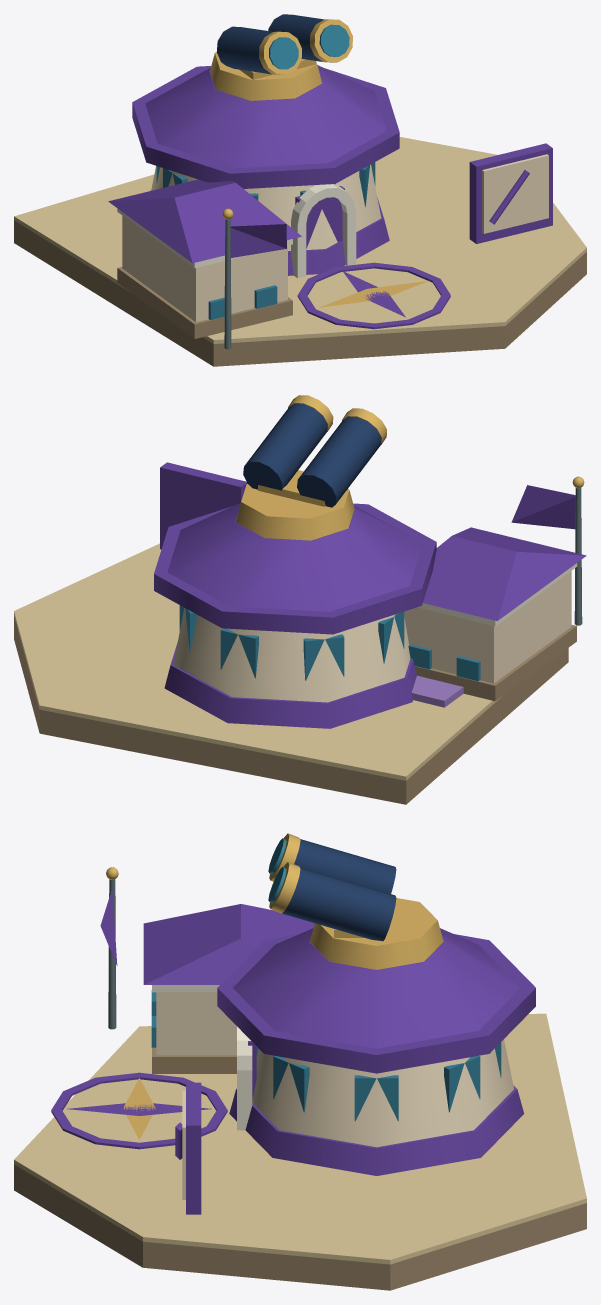
Rendered from scout-center-lv2.glb.
3 views of the same model, one above another, from view 1: azimuth 30°, elevation 25°; view 2: azimuth 150°, elevation 25°; view 3: azimuth 270°, elevation 25° (orthographic). The views are drawn at different scales.
Parts seen in each view (by area): view 1: foundation_sand, faceted_roof_violet, foundation_stoneDark, archive_wing_cream, observation_eave_violet, archive_wing_roof_violet, map_board_cream, octagonal_office_cream, compass_violet, roof_binoculars_naval, archive_wing_stoneDark, optic_pedestal_gold (+12 smaller); view 2: foundation_sand, faceted_roof_violet, foundation_stoneDark, octagonal_office_cream, archive_wing_roof_violet, observation_eave_violet, archive_wing_cream, roof_binoculars_naval, office_plinth_violet, optic_pedestal_gold, map_board_violet, office_windows_glass (+8 smaller); view 3: foundation_sand, faceted_roof_violet, octagonal_office_cream, foundation_stoneDark, observation_eave_violet, archive_wing_roof_violet, office_plinth_violet, roof_binoculars_naval, optic_pedestal_gold, archive_wing_cream, compass_violet, office_windows_glass (+8 smaller).
Boxes of the visible parts, x1,y1,x2,y2 form: foundation_sand: (14, 137, 586, 343); faceted_roof_violet: (145, 65, 386, 168); foundation_stoneDark: (14, 220, 586, 366); archive_wing_cream: (122, 216, 287, 322); observation_eave_violet: (132, 66, 399, 188); archive_wing_roof_violet: (108, 179, 301, 263); map_board_cream: (482, 154, 548, 233); octagonal_office_cream: (151, 164, 381, 250); compass_violet: (297, 262, 450, 329); roof_binoculars_naval: (217, 14, 324, 74); archive_wing_stoneDark: (117, 267, 292, 338); optic_pedestal_gold: (210, 52, 322, 100); foundation_sand: (14, 543, 502, 780); faceted_roof_violet: (167, 502, 422, 611); foundation_stoneDark: (14, 616, 568, 804); octagonal_office_cream: (173, 608, 410, 702); archive_wing_roof_violet: (423, 527, 586, 620); observation_eave_violet: (154, 503, 436, 634); archive_wing_cream: (404, 571, 571, 683); roof_binoculars_naval: (243, 403, 381, 507); office_plinth_violet: (164, 643, 416, 728); optic_pedestal_gold: (236, 484, 354, 540); map_board_violet: (160, 462, 247, 549); office_windows_glass: (179, 605, 404, 680); foundation_sand: (14, 1013, 586, 1264); faceted_roof_violet: (233, 928, 520, 1048); octagonal_office_cream: (252, 1039, 513, 1147); foundation_stoneDark: (14, 1164, 586, 1290); observation_eave_violet: (217, 934, 535, 1073); archive_wing_roof_violet: (143, 904, 314, 984); office_plinth_violet: (229, 1085, 524, 1175); roof_binoculars_naval: (282, 839, 396, 941); optic_pedestal_gold: (310, 898, 443, 969); archive_wing_cream: (156, 992, 236, 1055); compass_violet: (51, 1072, 227, 1149); office_windows_glass: (256, 1042, 501, 1121).
Size of the model in its own units: 1 by 0.5571 by 0.9826.
